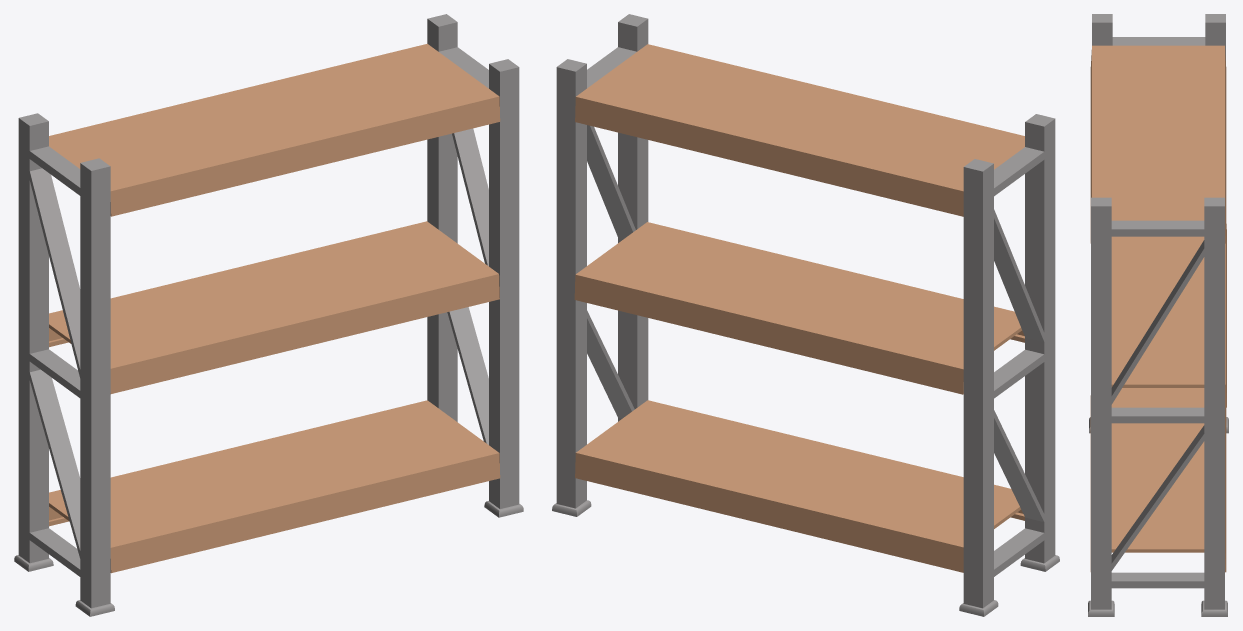
Rendered from P_Armoire_Stockage.fbx.
3 views of the same model, side by side, from view 1: azimuth 30°, elevation 25°; view 2: azimuth 150°, elevation 25°; view 3: azimuth 270°, elevation 25° (orthographic). The views are drawn at different scales.
Visible parts, largest first — view 1: Box008; view 2: Box008; view 3: Box008.
Boxes of the visible parts, x1,y1,x2,y2 form: Box008: (14, 14, 523, 616); Box008: (552, 14, 1059, 616); Box008: (1088, 14, 1228, 616).
Bounding box in the file's own units: 88.73 × 86.92 × 27.13.
Materials: 2 (2 with a texture image).
